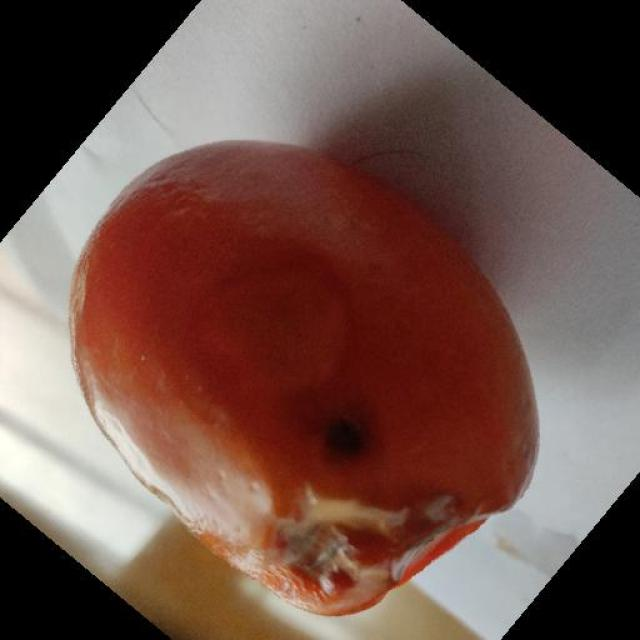Stale_tomato: (24, 132, 581, 632)
